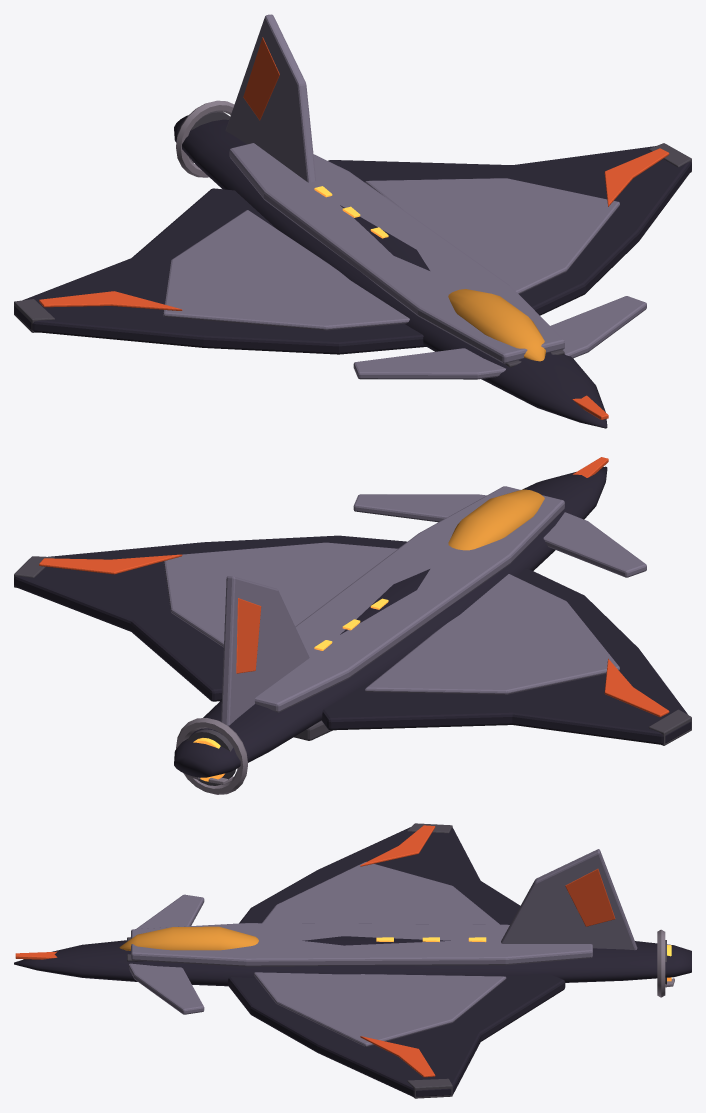
Rendered from vanta.glb.
The picture shows the model from 3 angles, top to bottom: view 1: azimuth 30°, elevation 25°; view 2: azimuth 150°, elevation 25°; view 3: azimuth 270°, elevation 25°; orthographic projection. The views are drawn at different scales.
Parts seen in each view (by area): view 1: Vanta_White, Vanta_Navy, Vanta_Cyan, Vanta_Canopy, Vanta_Gunmetal, Vanta_Exhaust; view 2: Vanta_White, Vanta_Navy, Vanta_Cyan, Vanta_Canopy, Vanta_Gunmetal, Vanta_Exhaust, Vanta_Glow; view 3: Vanta_White, Vanta_Navy, Vanta_Cyan, Vanta_Canopy, Vanta_Gunmetal, Vanta_Exhaust.
Part boxes in pixels (<box>): Vanta_White: <box>163,14,646,379</box>; Vanta_Navy: <box>14,115,691,428</box>; Vanta_Cyan: <box>39,37,669,419</box>; Vanta_Canopy: <box>448,289,545,361</box>; Vanta_Gunmetal: <box>14,111,691,367</box>; Vanta_Exhaust: <box>176,100,234,177</box>; Vanta_White: <box>163,486,646,725</box>; Vanta_Navy: <box>14,466,691,777</box>; Vanta_Cyan: <box>39,457,669,717</box>; Vanta_Canopy: <box>448,489,544,550</box>; Vanta_Gunmetal: <box>14,556,691,785</box>; Vanta_Exhaust: <box>176,718,247,794</box>; Vanta_Glow: <box>193,598,388,781</box>; Vanta_White: <box>128,849,637,1046</box>; Vanta_Navy: <box>14,827,691,1096</box>; Vanta_Cyan: <box>15,825,615,1077</box>; Vanta_Canopy: <box>119,926,258,950</box>; Vanta_Gunmetal: <box>127,823,666,1098</box>; Vanta_Exhaust: <box>657,929,674,997</box>.
Size of the model in its own units: 24.38 by 6.53 by 26.4.
